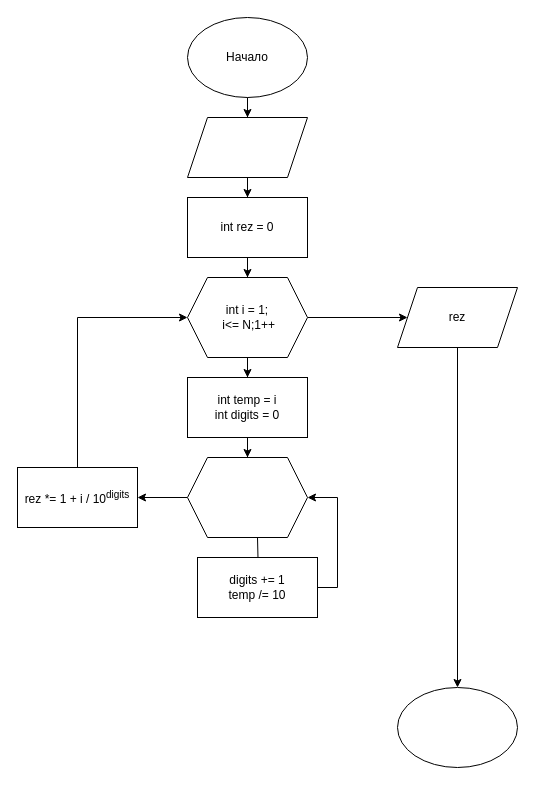
Image size: 535x785. Some labels were removed from this diagram. Each missing label, with the centre of its shape:
"int N > 0" belongs at point 247,147.
"temp > 0;" belongs at point 247,497.
"Конец" belongs at point 457,727.
